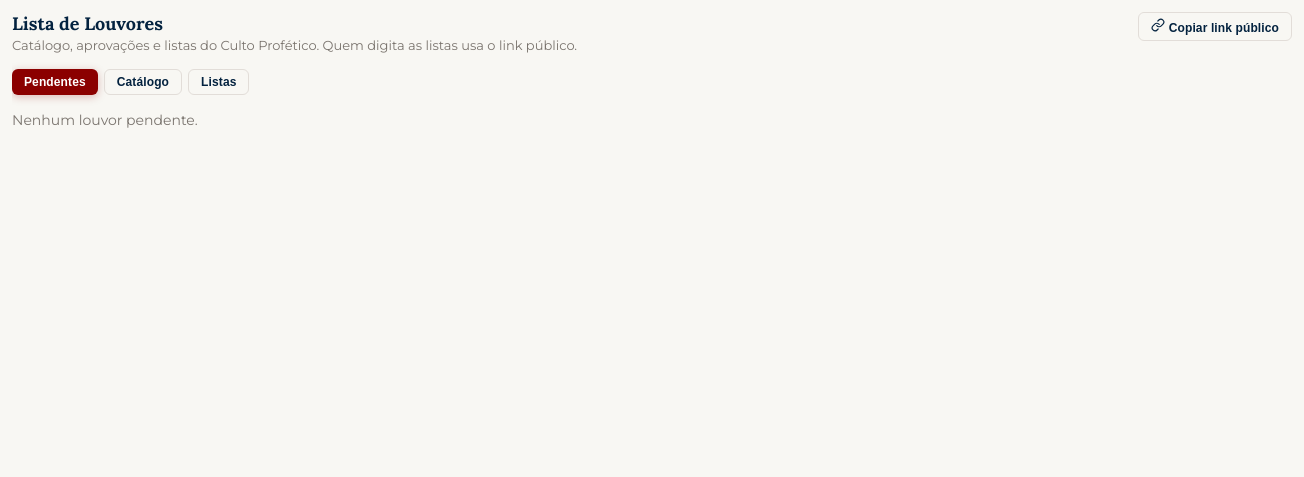
Test: Catálogo shows and edits only the number › rows read '198 · TITLE' and never show the CL-/CIA- prefix
This screenshot has width=1304, height=477.
Click the button "Catálogo" at (143, 82), box [104,69,182,95]
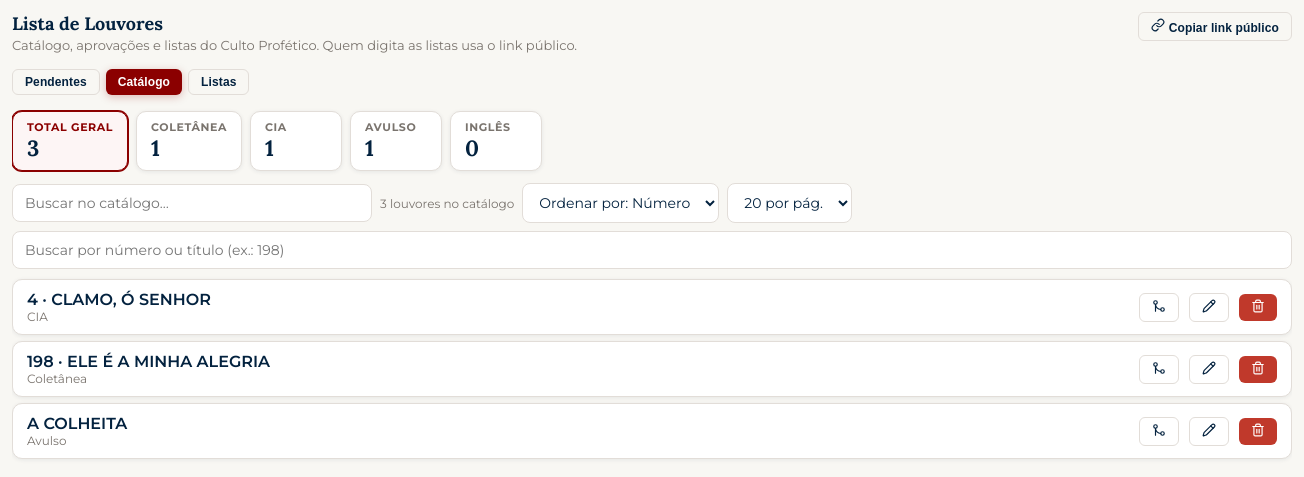
Now the element named "Filtrar por categoria" is shown, box [12,111,542,171]
Now the text "198 · ELE É A MINHA ALEGRIA" is shown, box [27,352,270,371]
Now the text "4 · CLAMO, Ó SENHOR" is shown, box [27,290,211,309]
